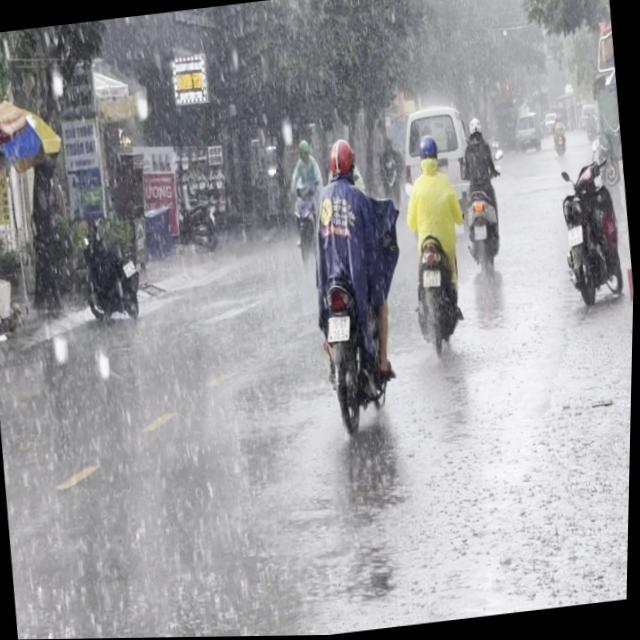helmet: (327, 137, 356, 181), (415, 133, 440, 173)
licenseplate: (292, 130, 411, 443), (394, 130, 477, 360)
nohelmet: (327, 315, 351, 342), (423, 268, 442, 289)
